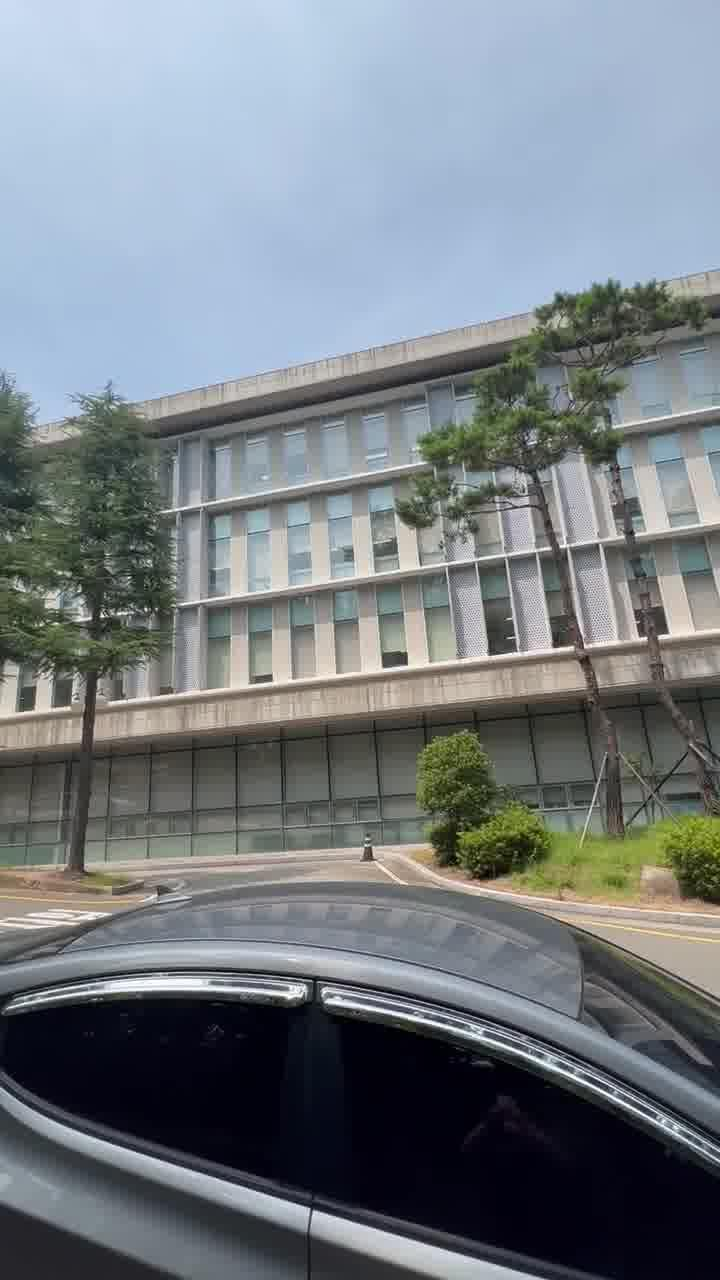building: (154, 292, 420, 834)
